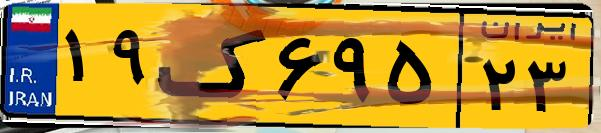1: (57, 26, 110, 100)
2: (475, 38, 525, 113)
3: (525, 38, 570, 115)
5: (385, 28, 445, 110)
6: (270, 28, 330, 110)
9: (330, 28, 385, 110), (110, 28, 158, 98)
ک: (158, 12, 270, 120)
